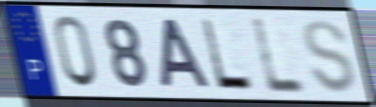0: (54, 14, 99, 90)
8: (103, 17, 149, 89)
A: (158, 16, 213, 90)
L: (250, 16, 310, 96), (199, 17, 258, 93)
S: (302, 17, 357, 96)
